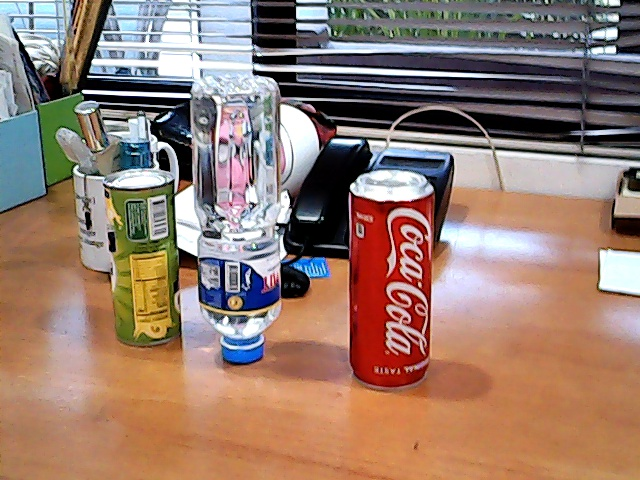Cola: (332, 147, 457, 403)
Pine Juice: (95, 157, 191, 357)
Summit Water: (188, 62, 304, 372)
